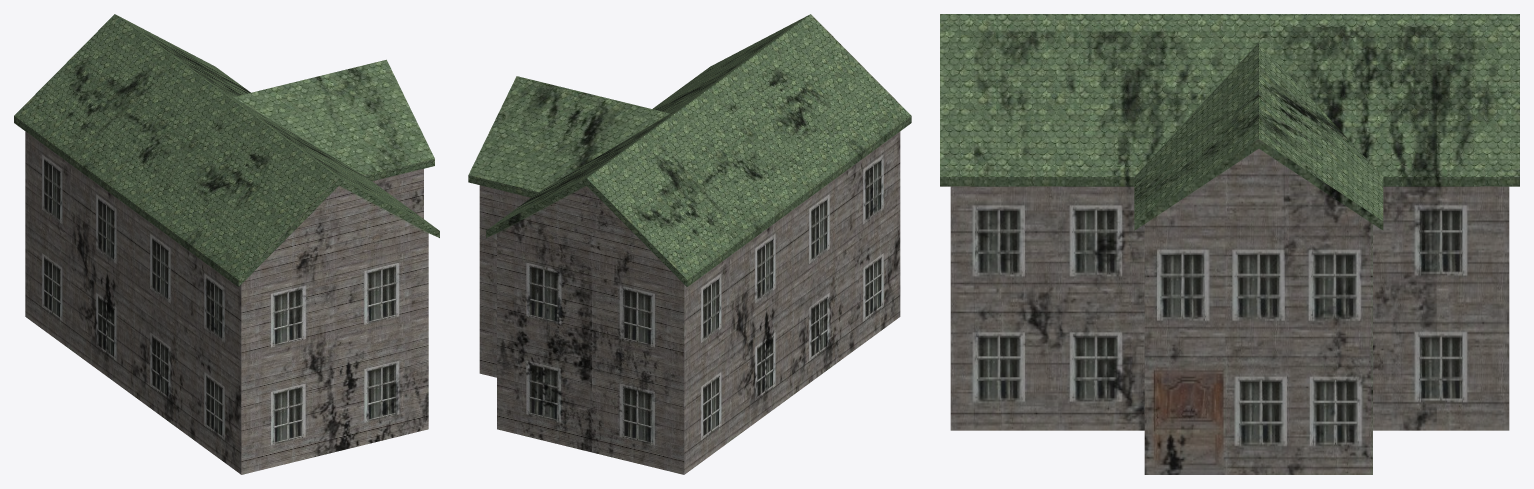
File: psx_old_abandoned_mansion.glb
3 renders of one model, left to right at view 1: azimuth 30°, elevation 25°; view 2: azimuth 150°, elevation 25°; view 3: azimuth 270°, elevation 25°, orthographic. The views are drawn at different scales.
Visible parts, largest first — view 1: PSX Old Abandoned Mansion; view 2: PSX Old Abandoned Mansion; view 3: PSX Old Abandoned Mansion.
Part boxes in pixels (<box>): PSX Old Abandoned Mansion: <box>14,14,439,474</box>; PSX Old Abandoned Mansion: <box>468,14,911,474</box>; PSX Old Abandoned Mansion: <box>940,14,1519,474</box>.
Bounding box in the file's own units: 5.8 × 5.65 × 8.3.
Materials: 1 (1 with a texture image).
